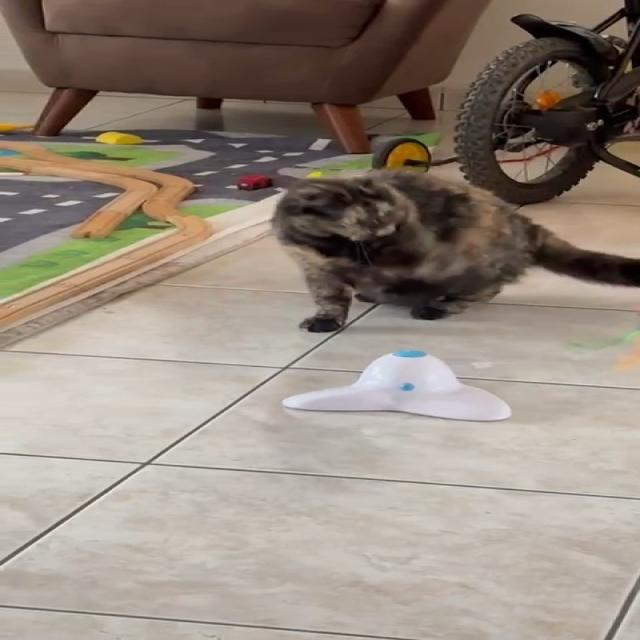authorized: (268, 167, 639, 333)
